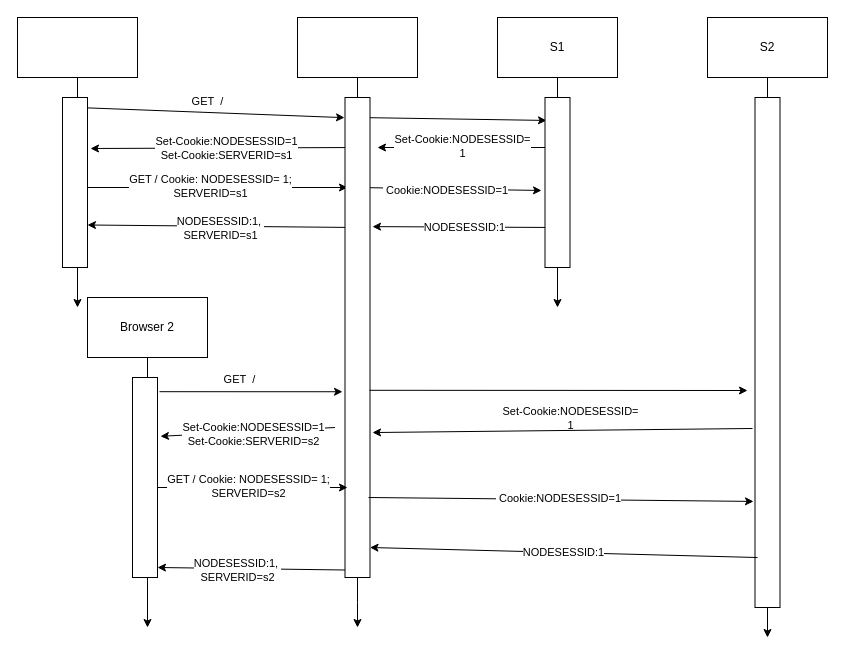
Image size: 845x663. Some labels were removed from this diagram. Here are the shapes that lost their labels. From the top down, the box of each, then its label:
(16, 16, 138, 78): Browser 1
(296, 16, 418, 78): HaProxy
